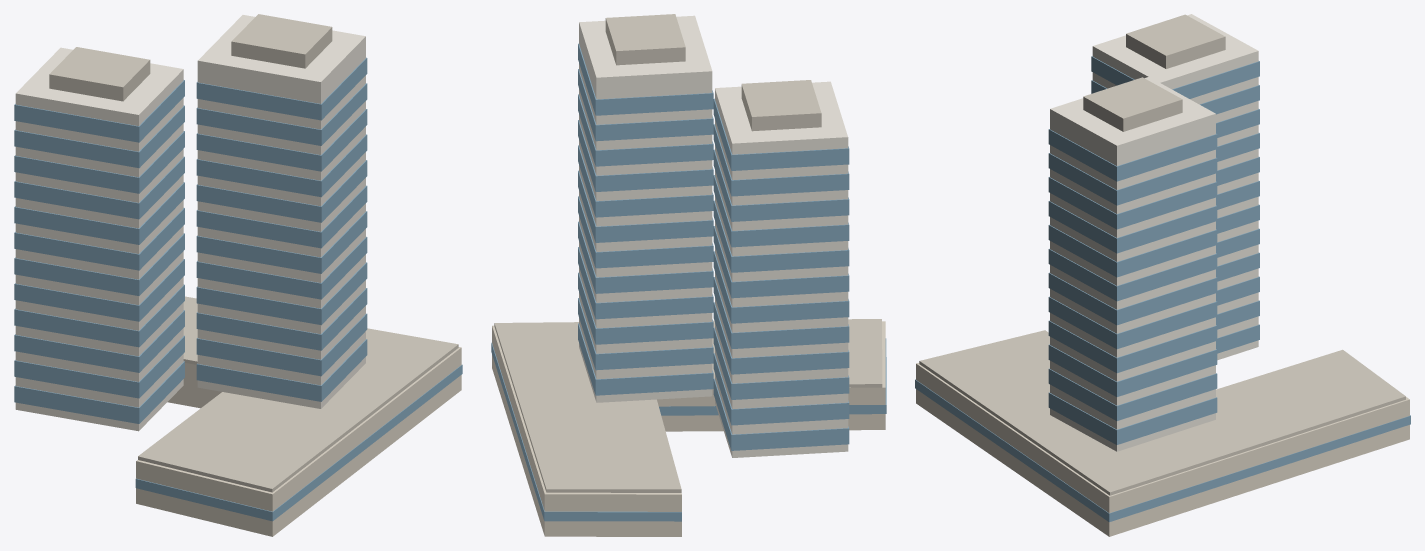
File: diamond_inya.glb
3 views of the same model, side by side, from view 1: azimuth 30°, elevation 25°; view 2: azimuth 150°, elevation 25°; view 3: azimuth 270°, elevation 25° (orthographic). The views are drawn at different scales.
Visible parts, largest first — view 1: part; view 2: part; view 3: part.
Part boxes in pixels (bbox=[...]): part: bbox=[14, 14, 462, 536]; part: bbox=[491, 14, 886, 536]; part: bbox=[915, 14, 1410, 536].
Bounding box in the file's own units: 119 × 109 × 135.
